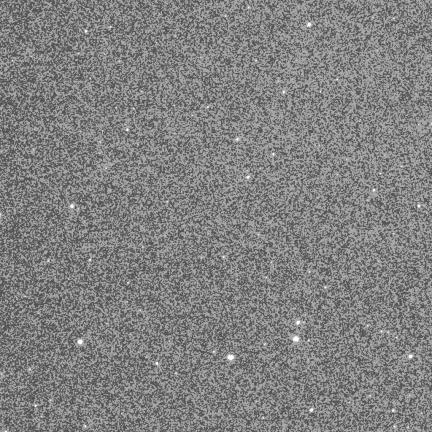blob: (227, 355, 235, 361), (293, 337, 300, 343), (78, 339, 83, 344), (126, 128, 130, 132), (70, 205, 74, 208), (85, 30, 88, 34), (156, 362, 159, 366), (310, 408, 313, 412), (308, 23, 311, 26), (409, 355, 412, 358), (175, 372, 178, 375), (392, 410, 395, 413), (213, 351, 216, 354), (418, 205, 421, 208), (373, 189, 376, 192), (297, 321, 299, 325), (283, 91, 285, 95), (247, 176, 250, 178), (207, 106, 210, 108)
